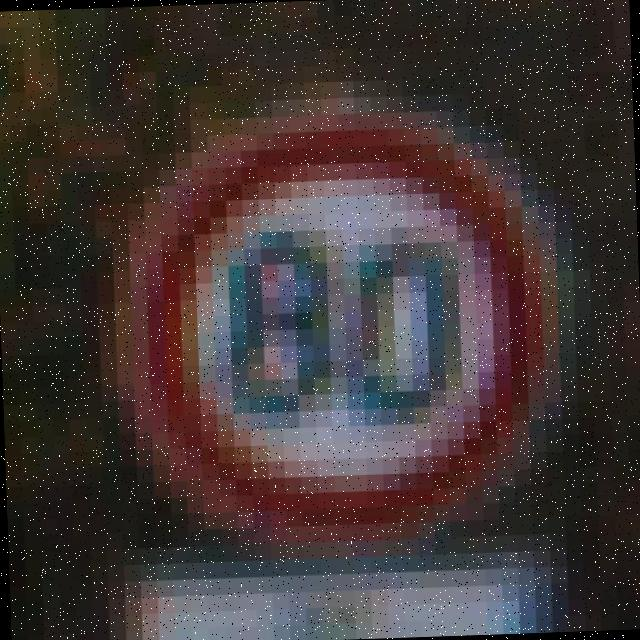Ograniczenie predkosci do 80: (133, 115, 557, 540)
